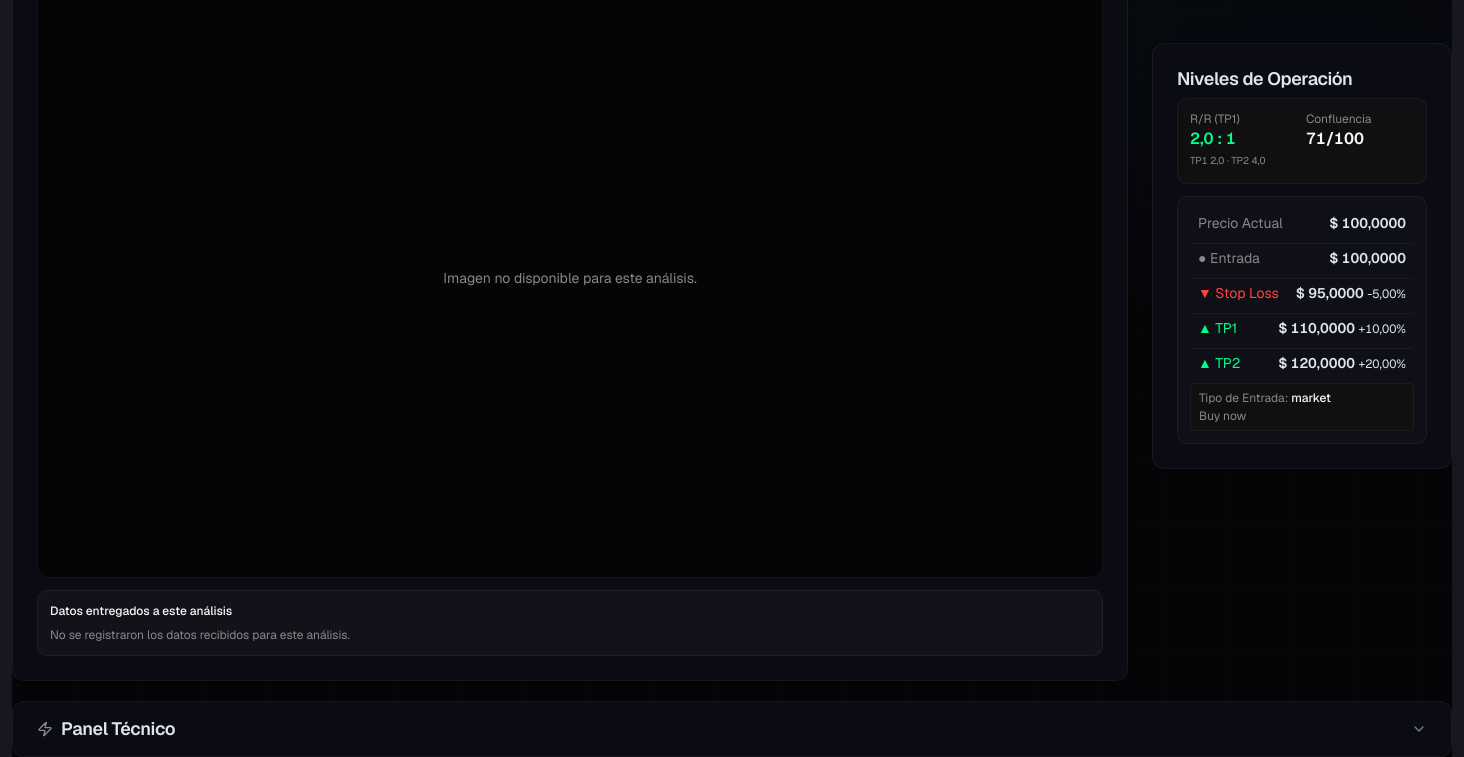
Test: C1 technical evidence caution presentation › keeps caution distinct from failure in es
(page scrolled)
Step 1. Click the button "Panel Técnico" → (118, 729), box top-left (13, 702), bottom-right (1451, 756)
(page scrolled)
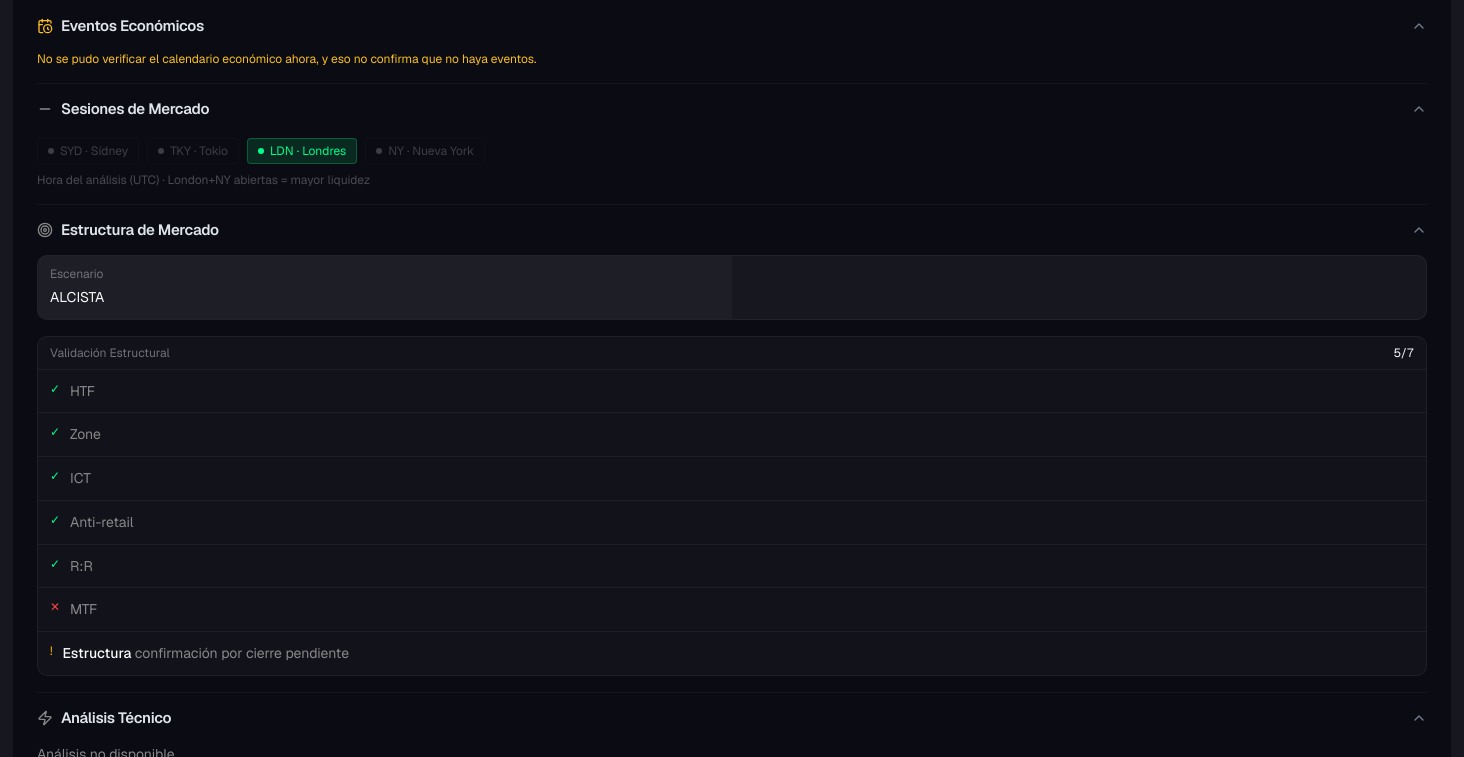
Check: the text "!" is shown, box top-left (50, 643), bottom-right (53, 659)
Check: the text "5/7" is shown, box top-left (1394, 345), bottom-right (1414, 361)
